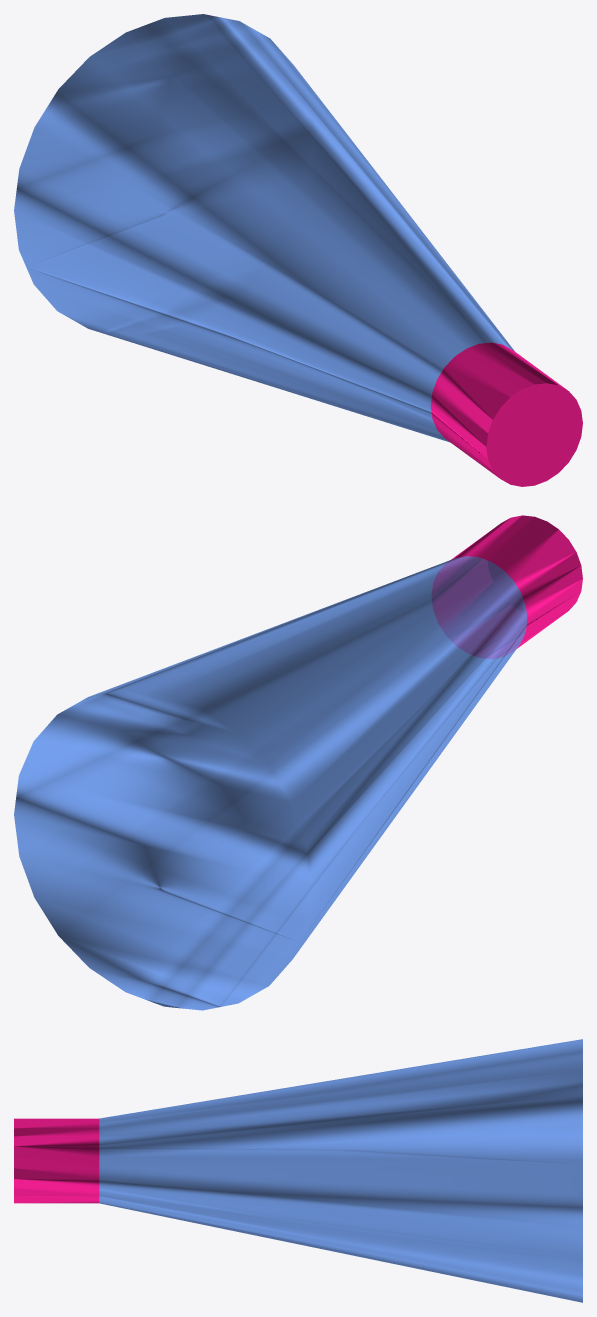
File: model_align.obj
3 views of the same model, one above another, from view 1: azimuth 30°, elevation 25°; view 2: azimuth 150°, elevation 25°; view 3: azimuth 270°, elevation 25° (orthographic). The views are drawn at different scales.
Size of the model in its own units: 0.1188 by 0.1188 by 0.2555.
